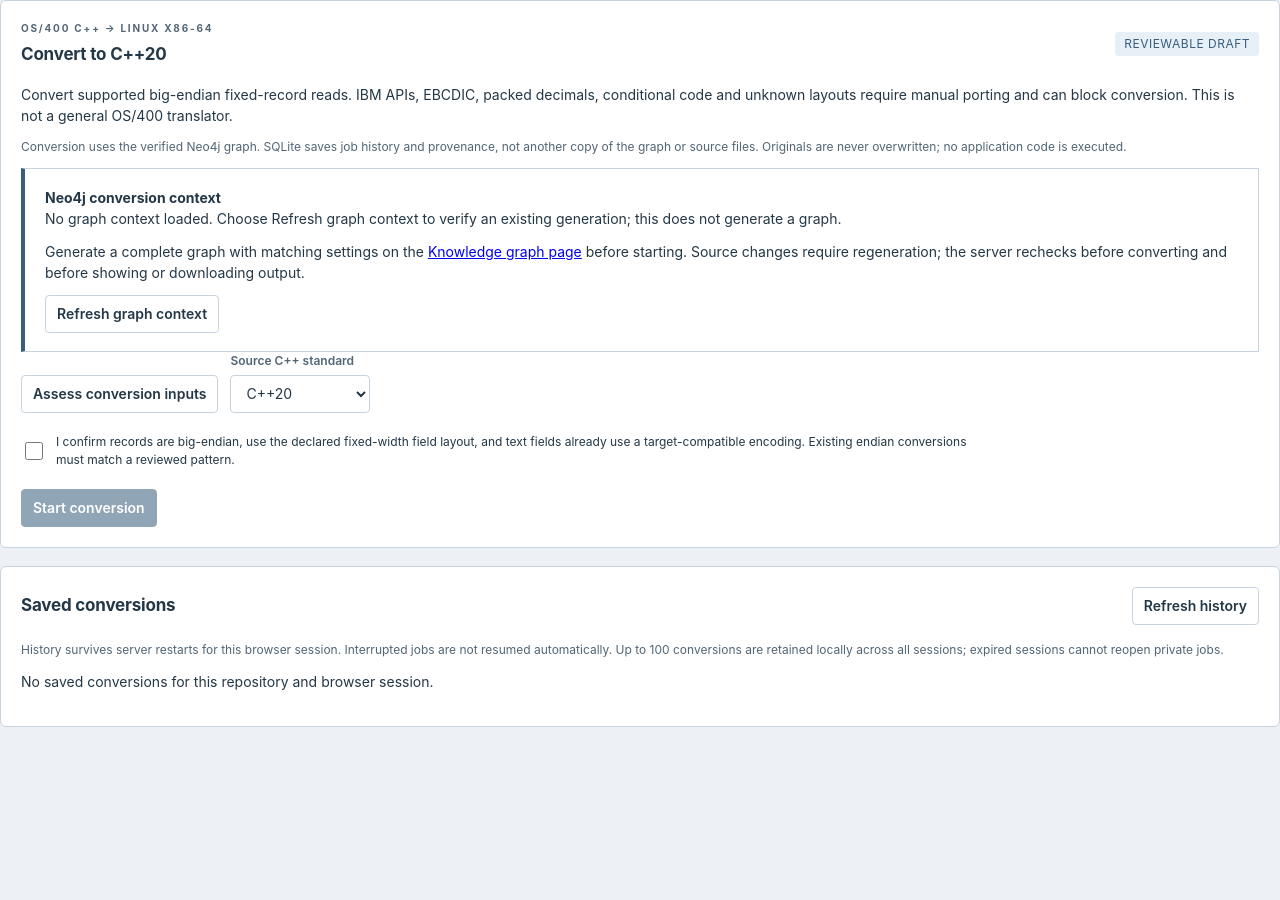
Scenario: requires a complete Neo4j graph with matching settings before conversion
This screenshot has width=1280, height=900.
Click the button "Refresh graph context": (132, 314) 45,294 -> 219,332
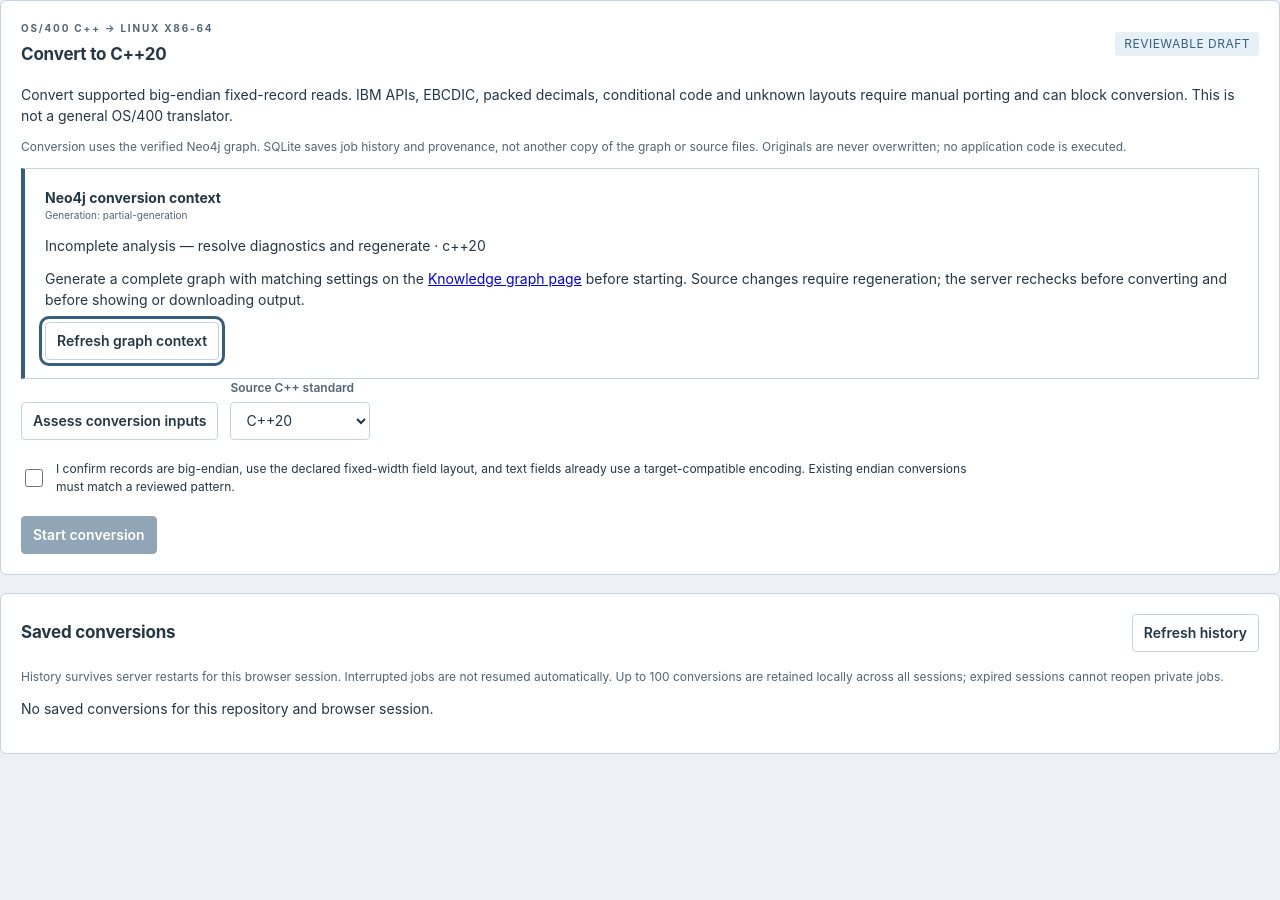
Expected: the text "Incomplete analysis" is shown, 45,236 -> 430,254
Click the button "Assess conversion inputs": (120, 420) 21,402 -> 218,440
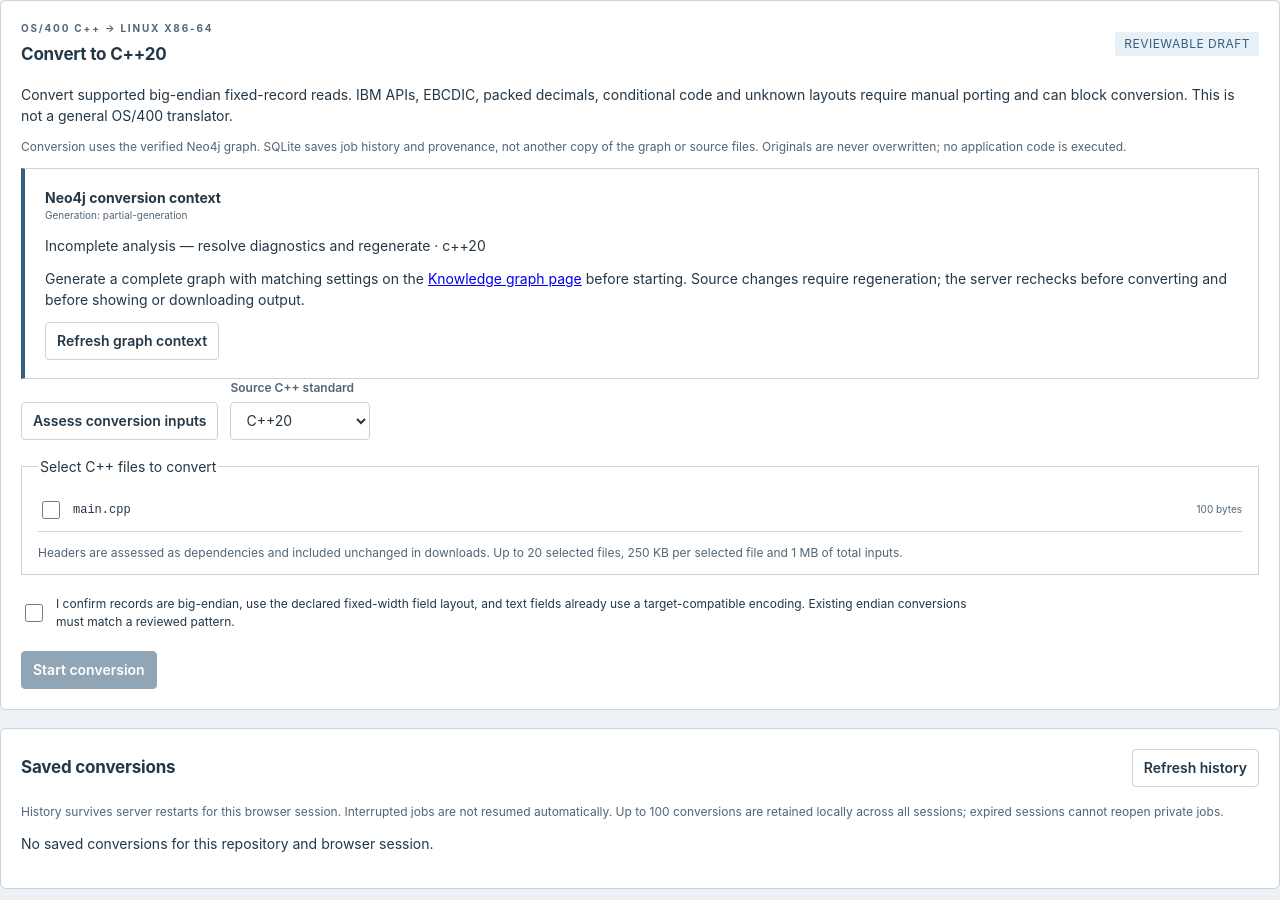
Click the checkbox labelled "main.cpp 100 bytes": (51, 510) 42,500 -> 60,520
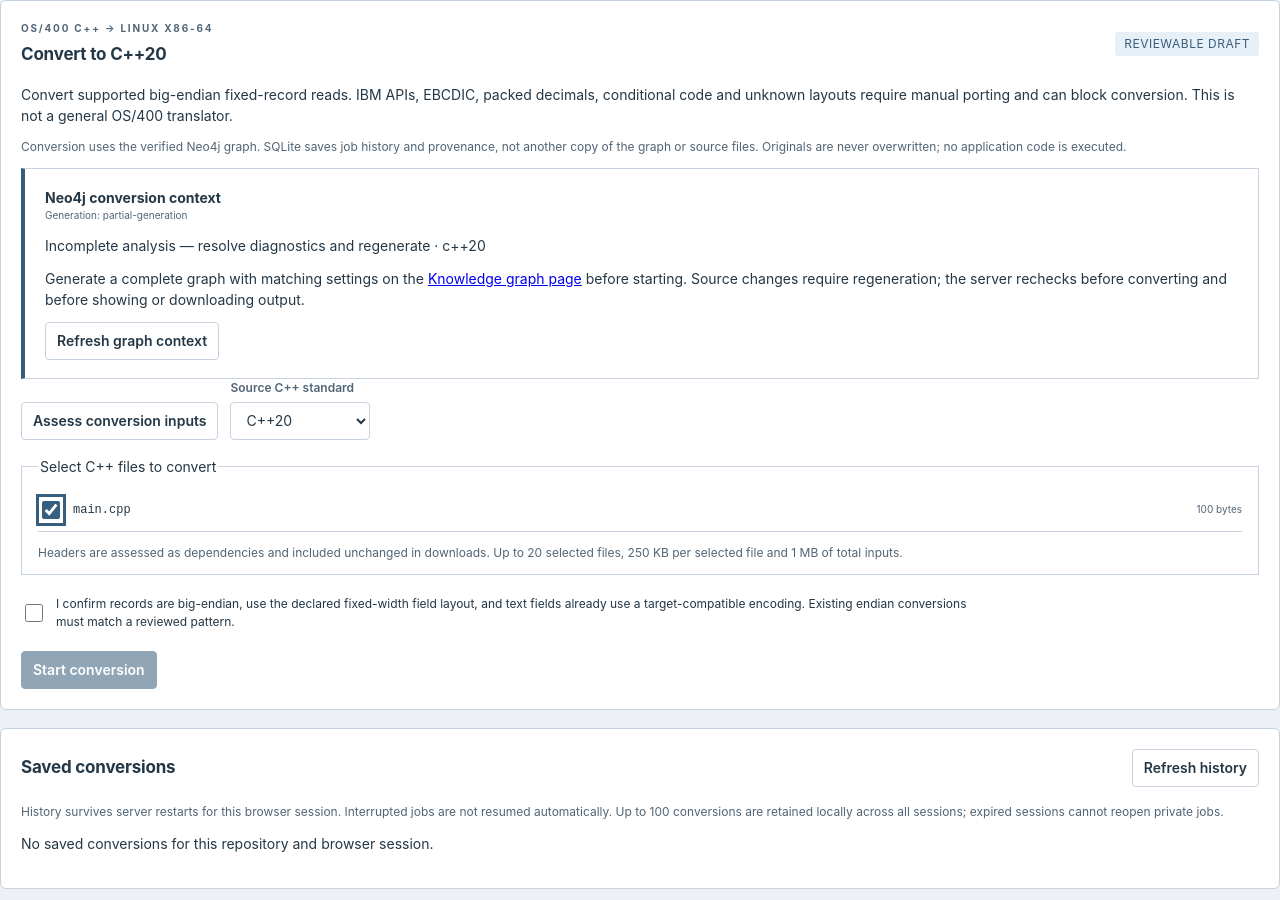
Click the checkbox labelled "I confirm records are big-endian": (34, 612) 25,602 -> 43,622
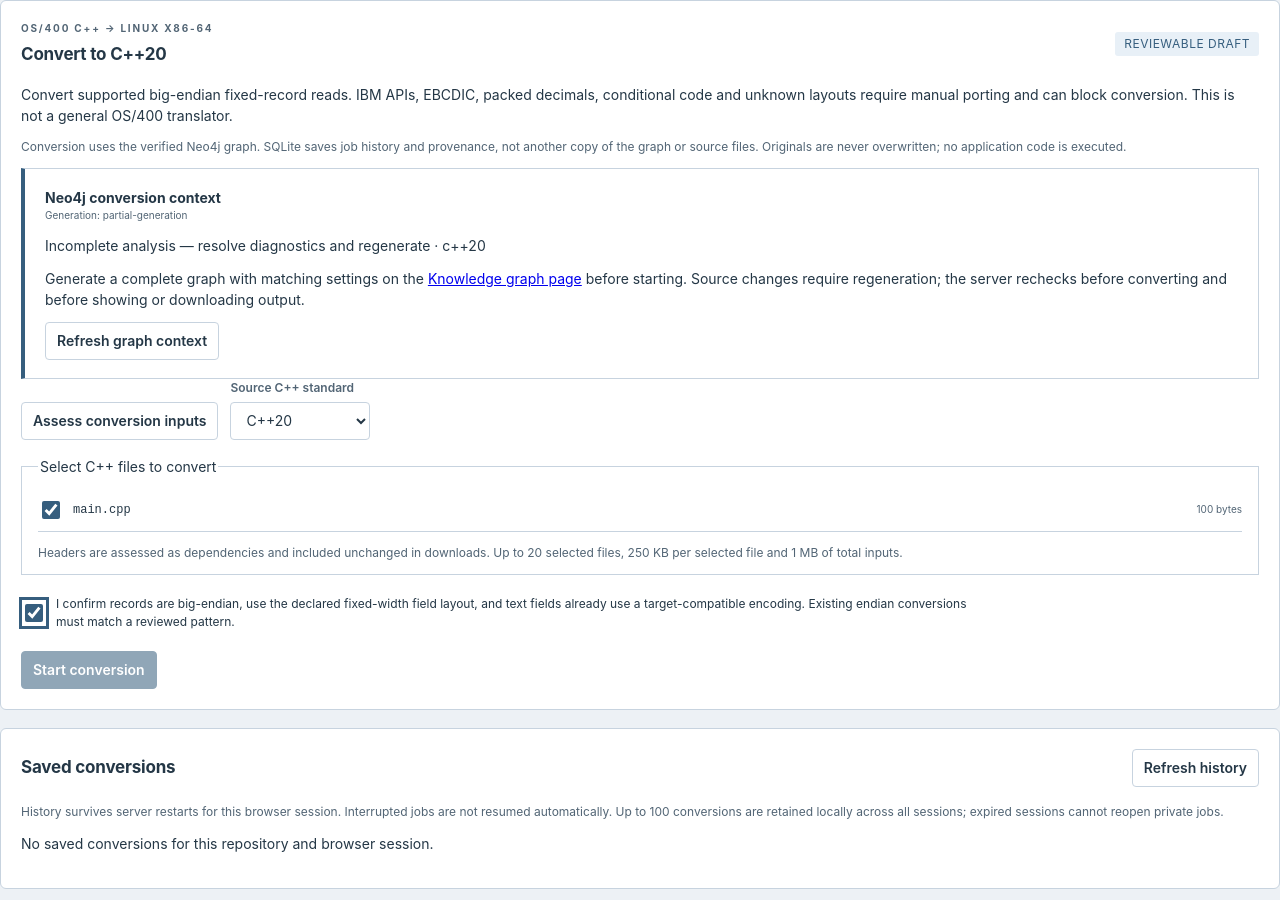
Expected: the button "Start conversion" is disabled, 21,650 -> 157,688
Click the button "Refresh graph context": (132, 340) 45,322 -> 219,360
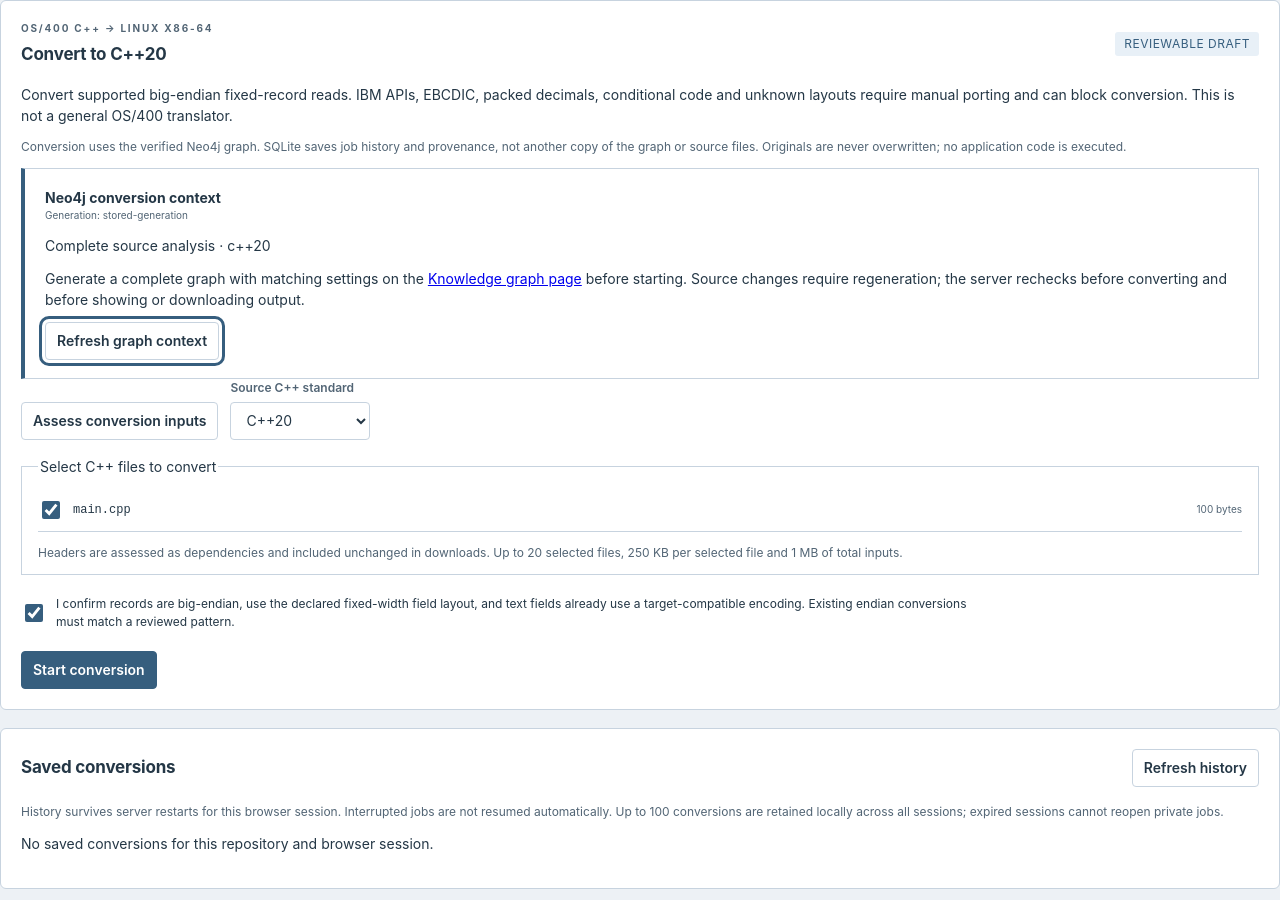
Expected: the text "Complete source analysis · c++20" is shown, 45,236 -> 271,254
Expected: the button "Start conversion" is enabled, 21,650 -> 157,688
Select "C++17" in the dropdown labelled "Source C++ standard": (300, 420) 230,402 -> 370,440
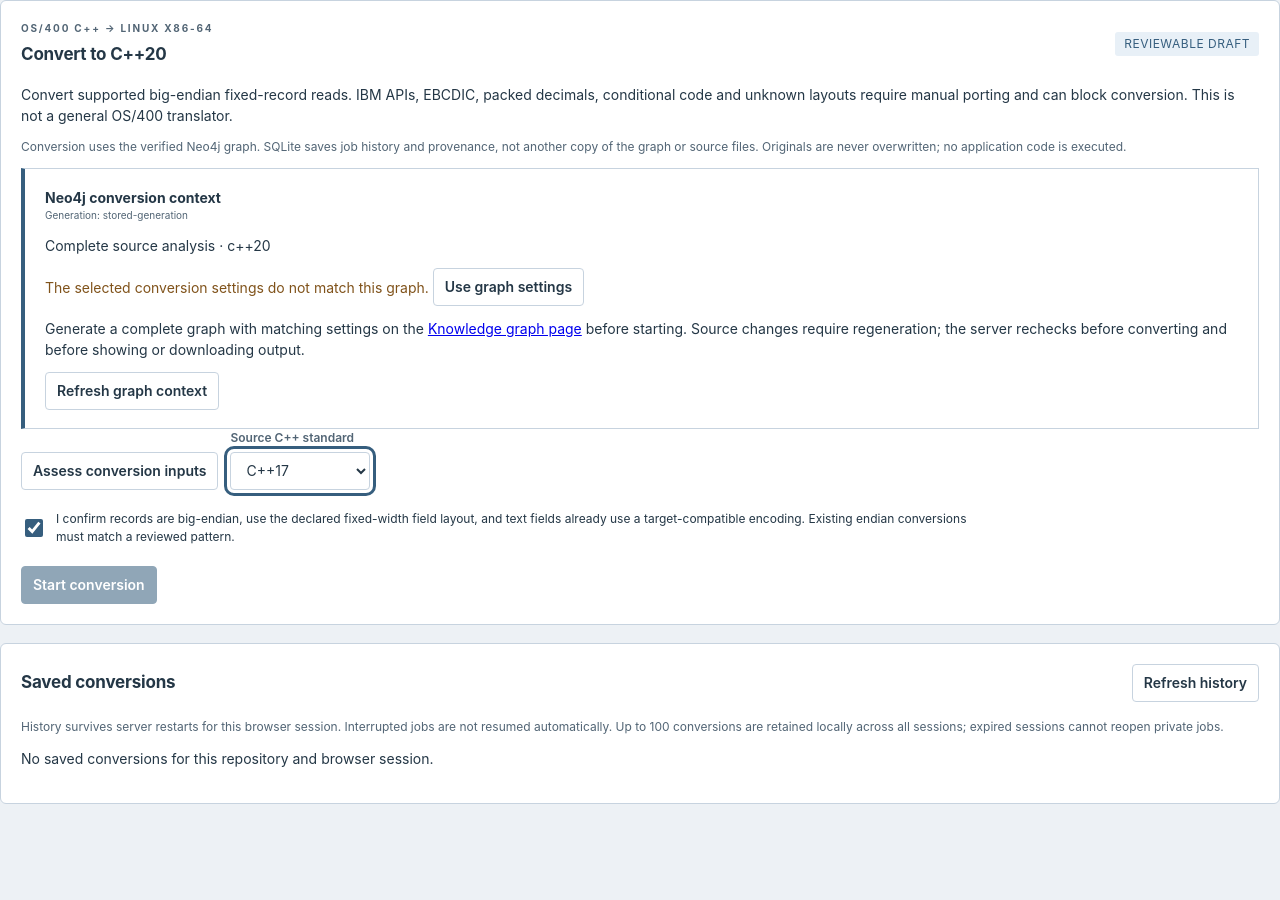
Expected: the button "Start conversion" is disabled, 21,566 -> 157,604
Expected: the button "Use graph settings" is shown, 433,268 -> 584,306
